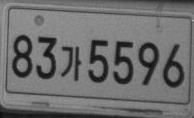3: (35, 36, 57, 79)
5: (87, 39, 109, 83), (112, 40, 133, 85)
6: (162, 43, 185, 88)
8: (11, 33, 33, 78)
9: (137, 41, 160, 85)
가: (60, 45, 81, 81)
